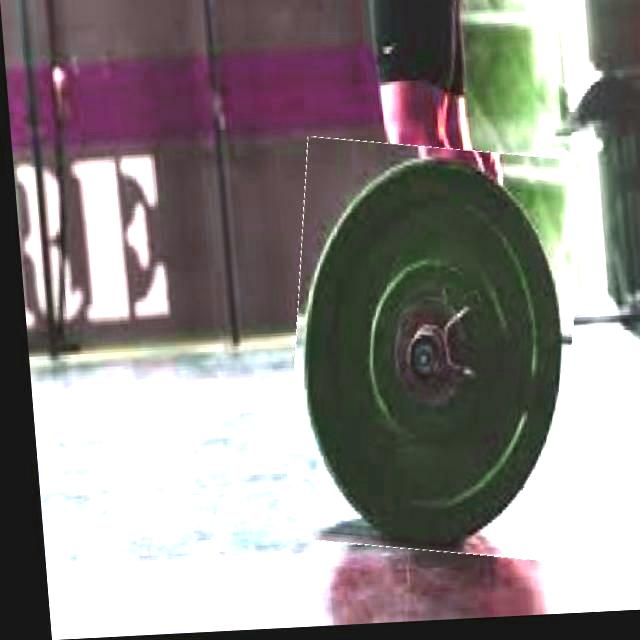barbell: (265, 138, 592, 570)
